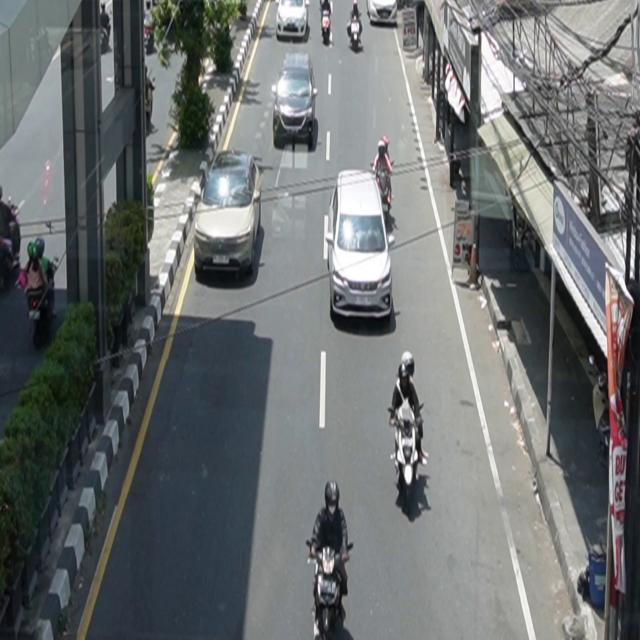car: (324, 169, 396, 322), (194, 149, 263, 279), (272, 52, 319, 144), (276, 1, 310, 41), (367, 1, 399, 26)
